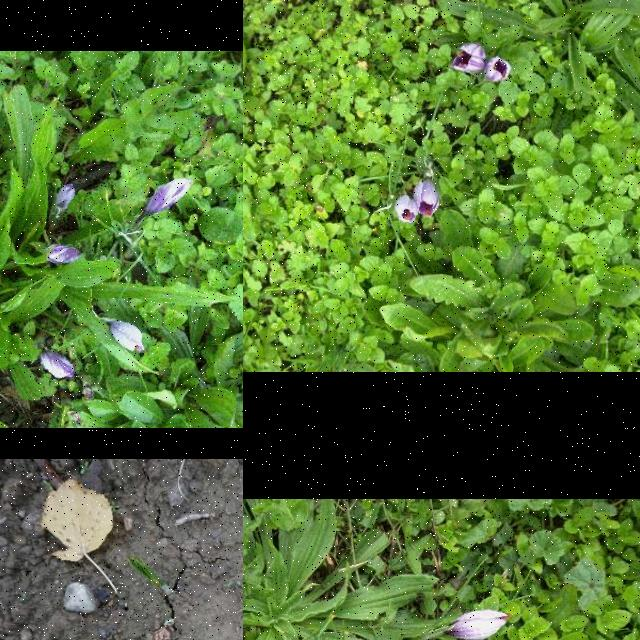flower: (446, 610, 512, 640), (146, 178, 192, 216), (110, 321, 146, 353), (40, 350, 76, 380), (452, 42, 484, 74), (412, 181, 440, 217), (484, 56, 512, 84), (46, 244, 82, 264), (394, 196, 418, 224), (55, 184, 75, 210)
